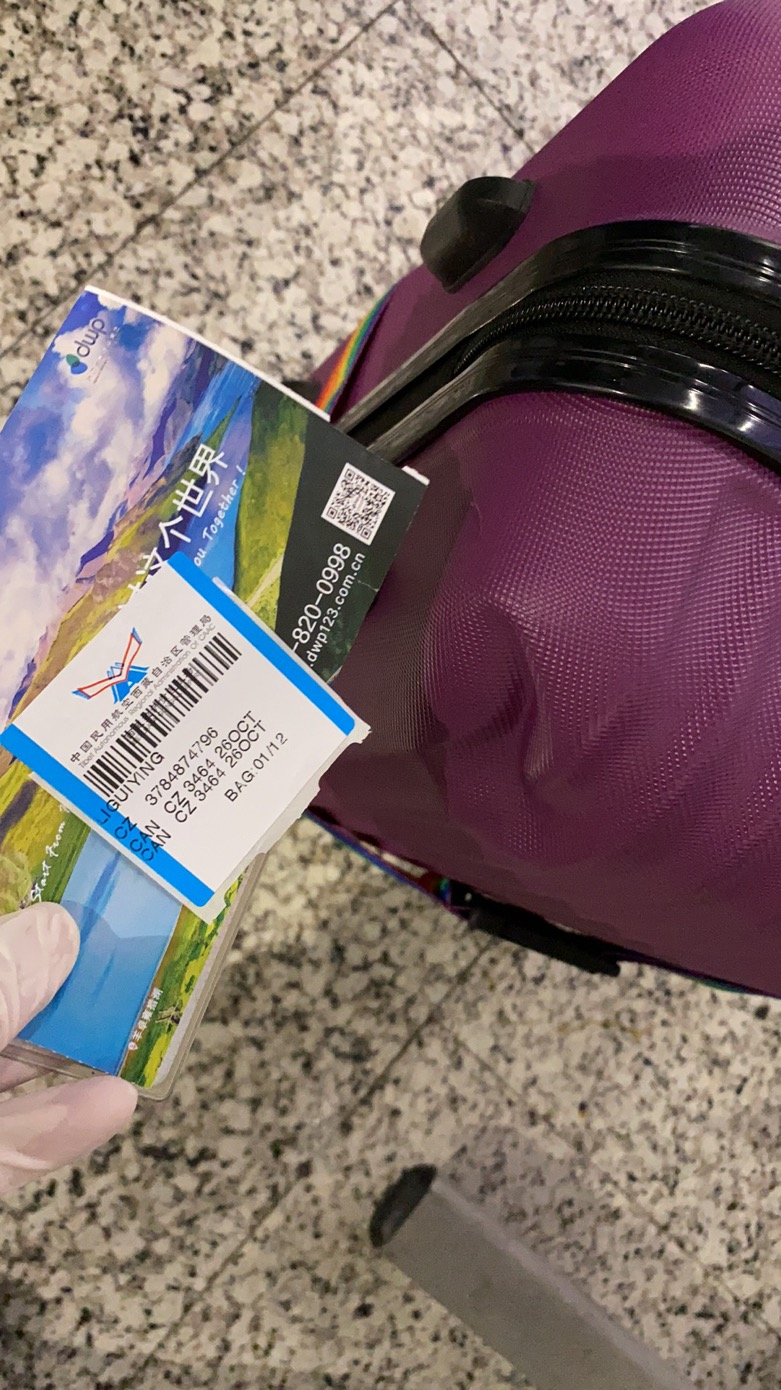rupture: (410, 596, 564, 800)
